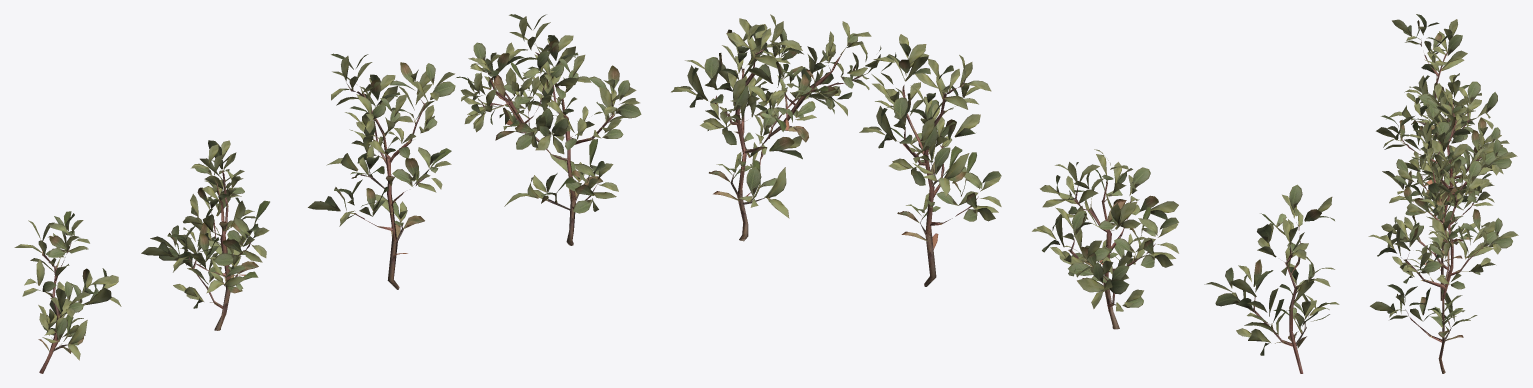
File: shrub_04.glb
3 renders of one model, left to right at view 1: azimuth 30°, elevation 25°; view 2: azimuth 150°, elevation 25°; view 3: azimuth 270°, elevation 25°, orthographic. The views are drawn at different scales.
Visible parts, largest first — view 1: shrub_04; view 2: shrub_04; view 3: shrub_04.
Boxes of the visible parts, x1,y1,x2,y2 form: shrub_04: (14, 14, 641, 373); shrub_04: (671, 14, 1339, 373); shrub_04: (1368, 14, 1518, 373).
Bounding box in the file's own units: 0.5837 × 0.2192 × 0.1461.
1 material, 1 textured.
